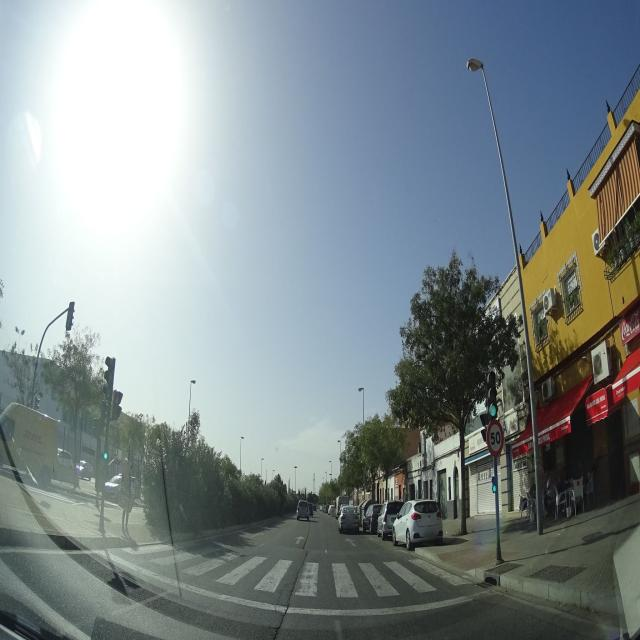car: (392, 497, 443, 549), (377, 499, 404, 540), (362, 502, 383, 533), (338, 504, 359, 534), (103, 474, 123, 501), (296, 498, 310, 522), (328, 504, 336, 516)
